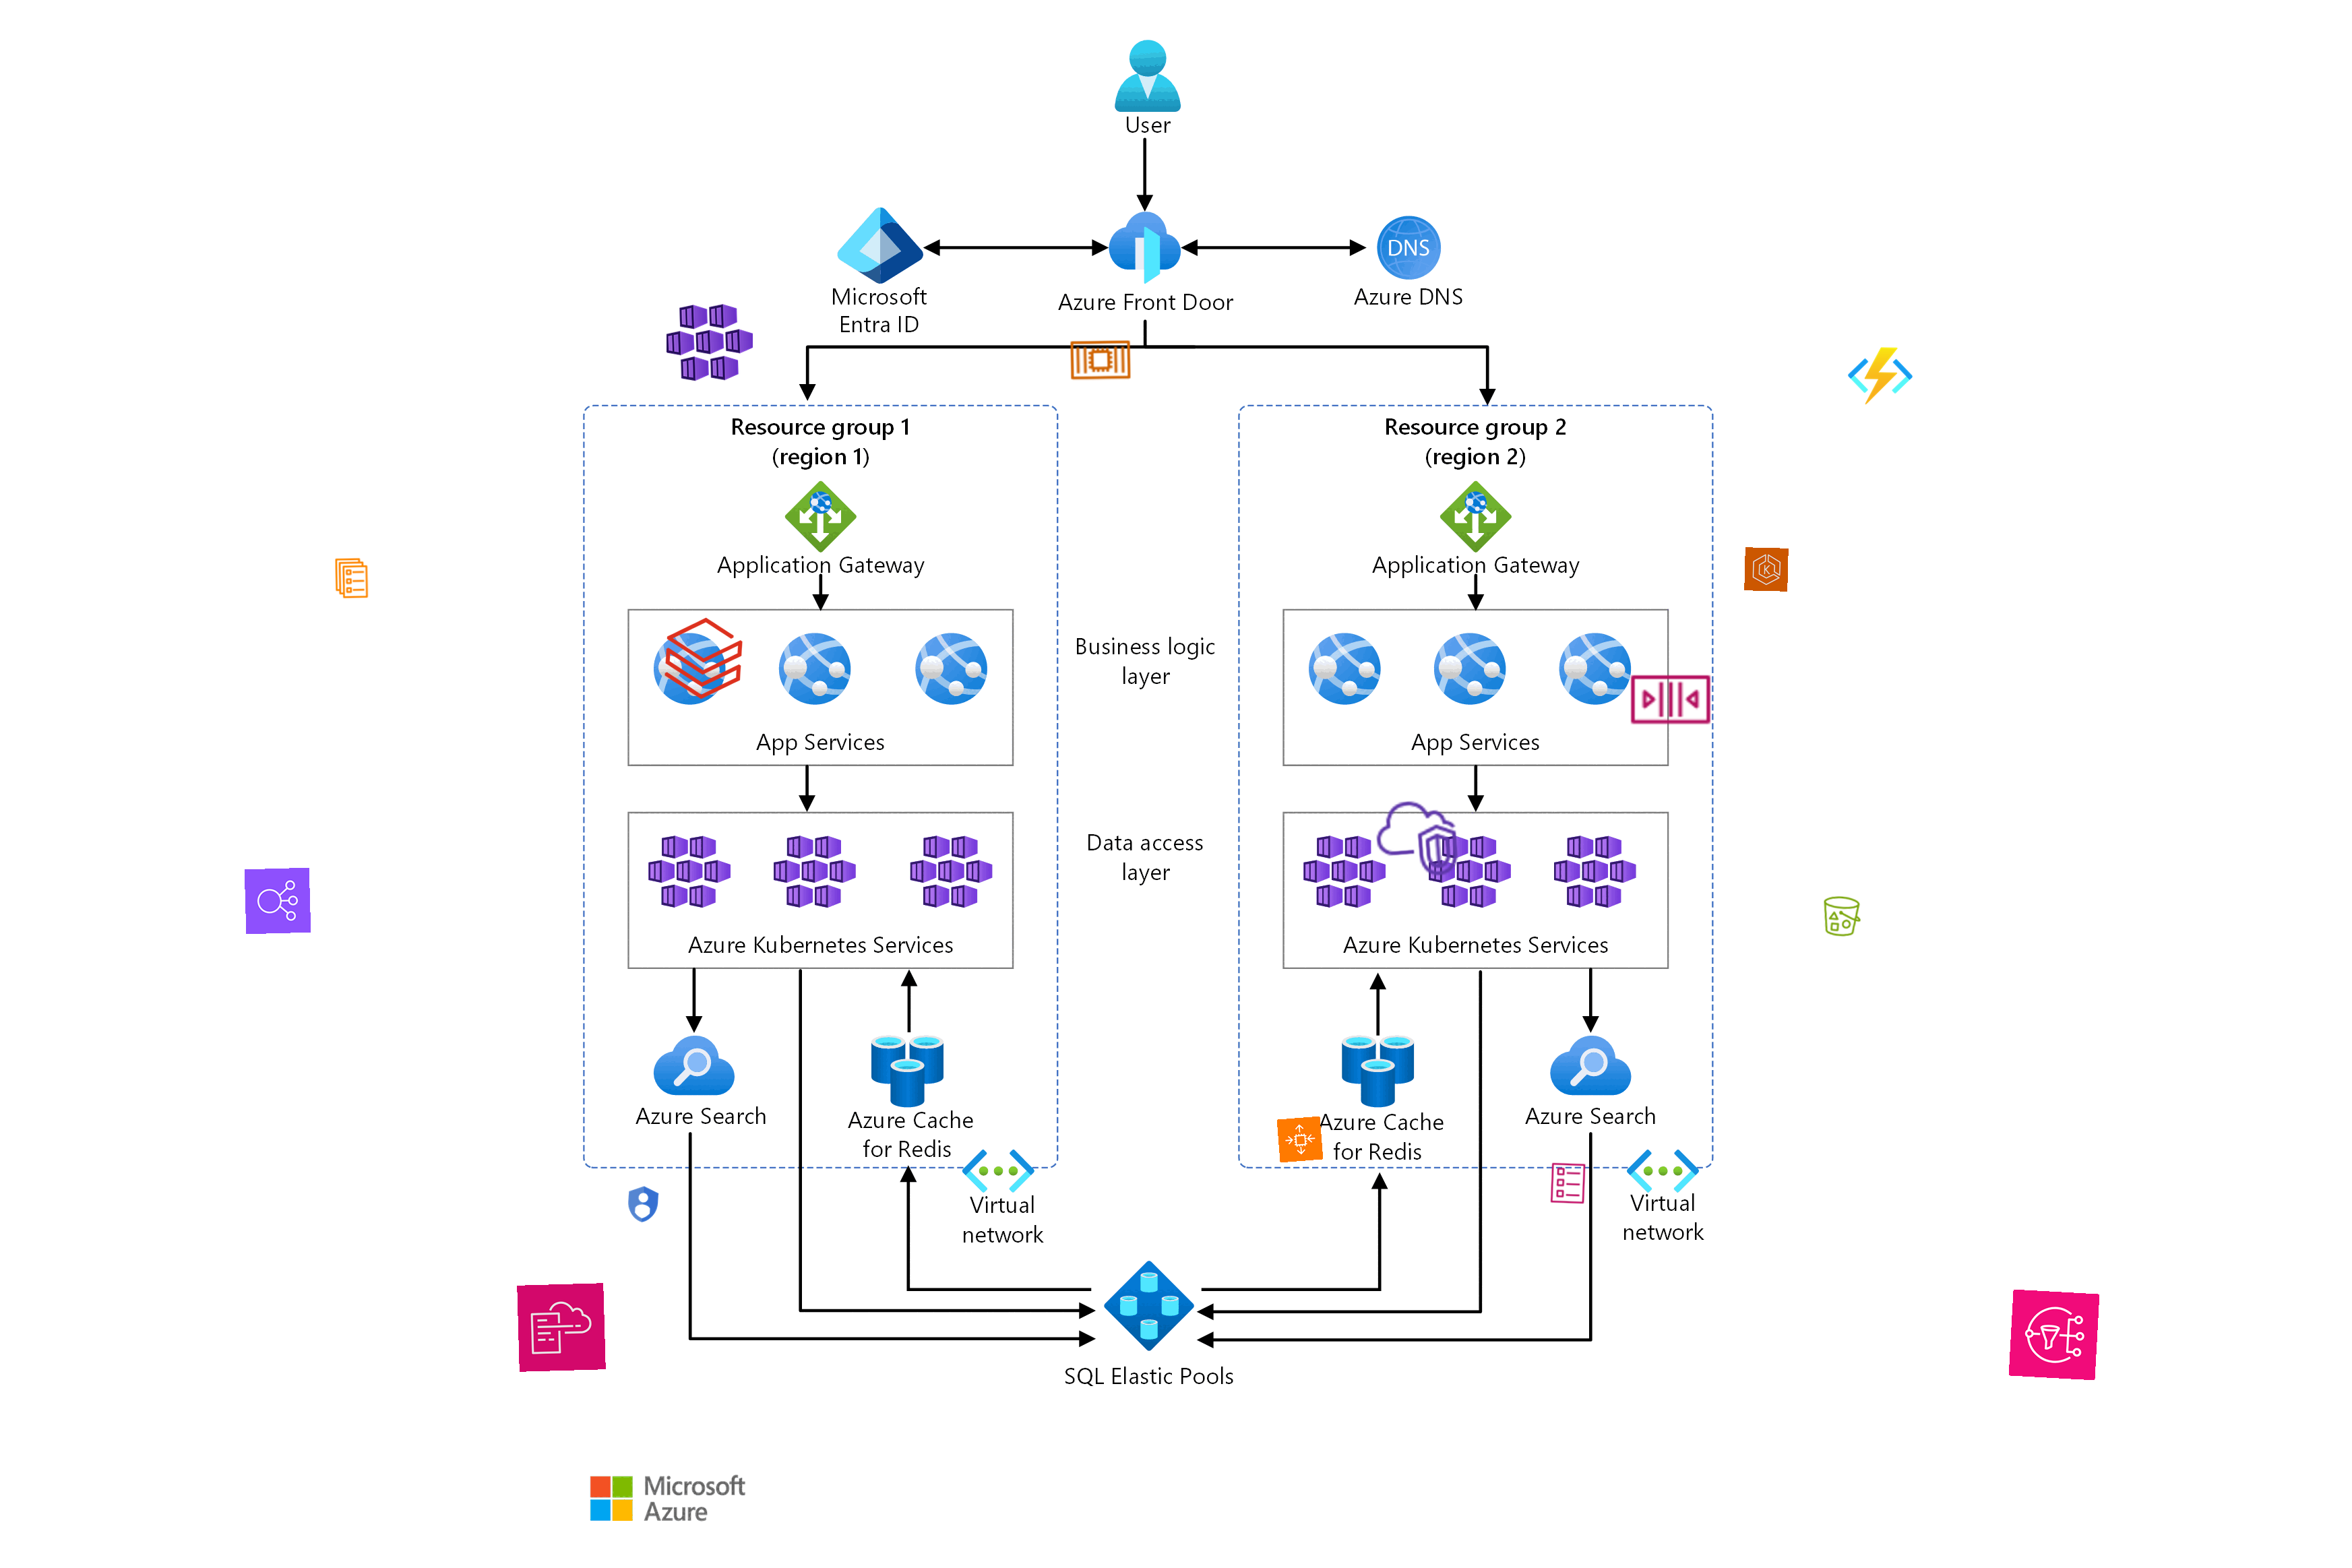aws_amazon_ec2_auto_scaling: (1276, 1116, 1323, 1164)
aws_amazon_elastic_kubernetes_service: (1745, 548, 1788, 591)
aws_amazon_simple_notification_service: (2009, 1290, 2100, 1381)
aws_cloudformation: (516, 1283, 605, 1372)
aws_cloudformation_template: (1545, 1160, 1591, 1206)
aws_elastic_container_service_container_2: (1067, 327, 1134, 392)
aws_elastic_container_service_service: (329, 557, 374, 600)
aws_elastic_load_balancing: (243, 868, 311, 935)
aws_simple_queue_service_queue: (1627, 655, 1715, 742)
aws_simple_storage_service_bucket_with_objects: (1818, 893, 1865, 940)
aws_vpc_virtual_private_cloud_vpc: (1370, 793, 1463, 886)
azure_databricks: (658, 612, 749, 703)
azure_function_apps: (1848, 343, 1913, 410)
azure_kubernetes_services: (665, 296, 754, 387)
gcp_identity_and_access_management: (619, 1181, 667, 1229)
